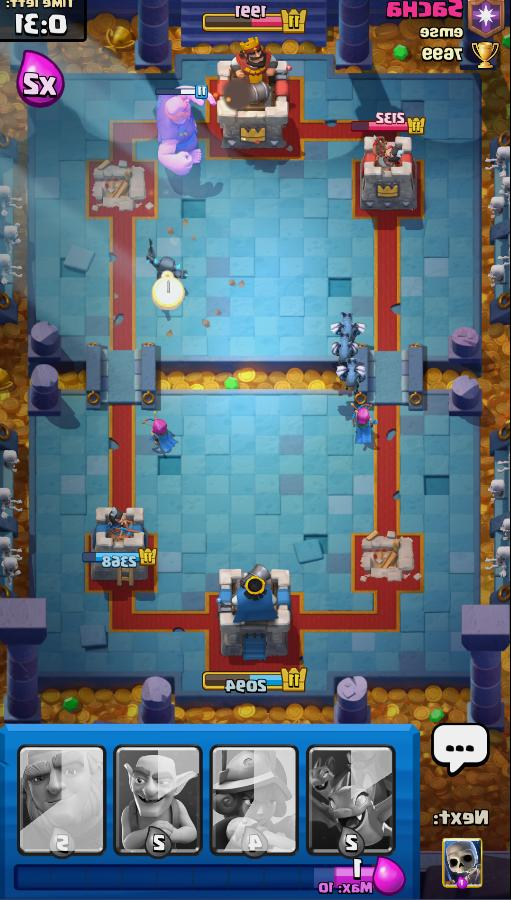archere: (136, 416, 183, 460), (345, 397, 383, 450)
gargouille: (330, 355, 375, 396), (324, 331, 364, 366), (327, 310, 369, 340)
geant: (145, 83, 222, 178)
mini_PEKKA: (138, 241, 198, 294)
